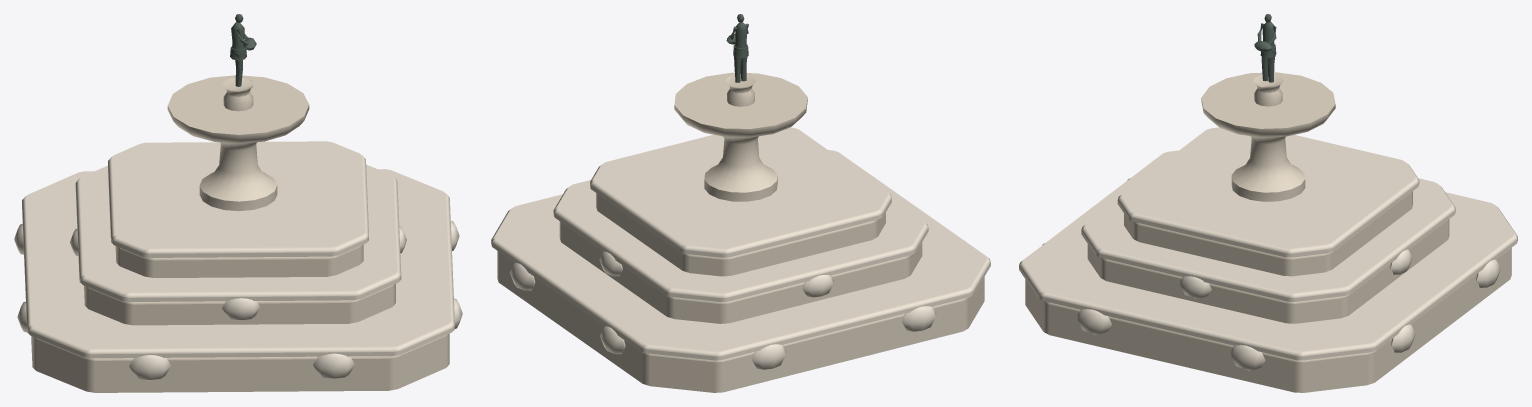
The model's file is detail.glb.
The picture shows the model from 3 angles, left to right: view 1: azimuth 30°, elevation 25°; view 2: azimuth 150°, elevation 25°; view 3: azimuth 270°, elevation 25°; orthographic projection. The views are drawn at different scales.
Parts seen in each view (by area): view 1: pulitzer-fountain; view 2: pulitzer-fountain; view 3: pulitzer-fountain.
Part boxes in pixels (left/top/right/bottom): pulitzer-fountain: left=14, top=14, right=462, bottom=392; pulitzer-fountain: left=491, top=14, right=990, bottom=392; pulitzer-fountain: left=1019, top=14, right=1517, bottom=392.
Bounding box in the file's own units: 14.78 × 9.04 × 14.78.
